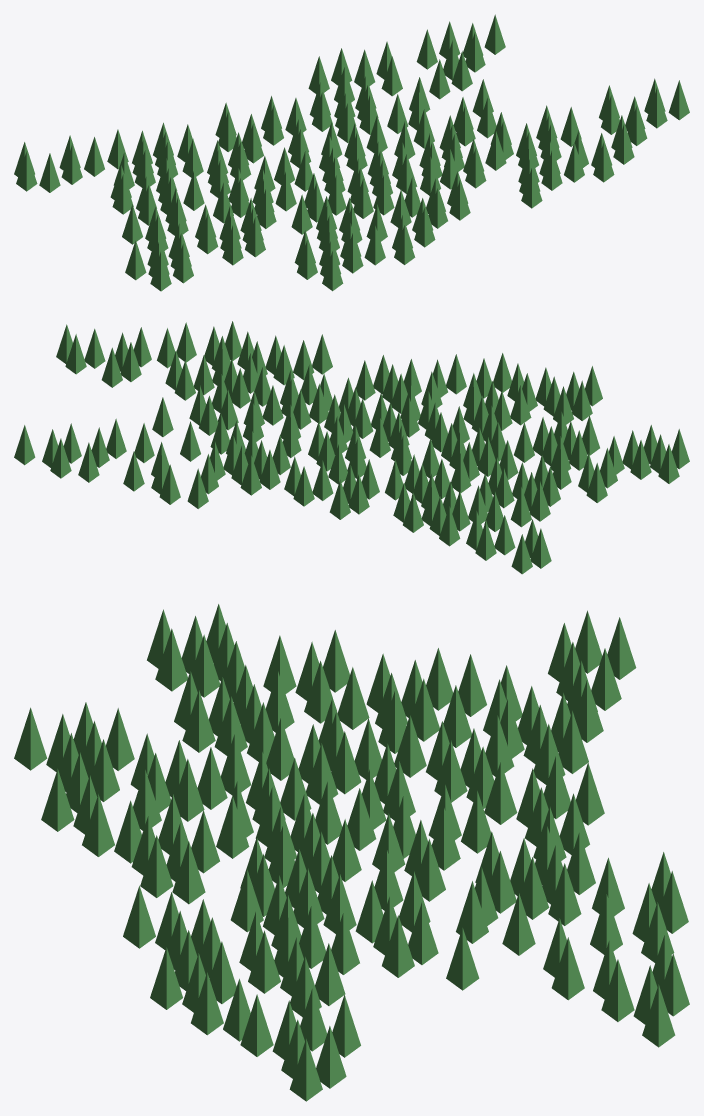
The model's file is forest2.fbx.
3 views of the same model, one above another, from view 1: azimuth 30°, elevation 25°; view 2: azimuth 150°, elevation 25°; view 3: azimuth 270°, elevation 25° (orthographic). The views are drawn at different scales.
Visible parts, largest first — view 1: pCone72, pCone180, pCone221, pCone18, pCone45, pCone150, pCone153, pCone162, pCone177, pCone187, pCone189, pCone214 (+41 smaller); view 2: pCone30, pCone83, pCone89, pCone161, pCone191, pCone197, pCone218, pCone101, pCone125, pCone137, pCone155, pCone186 (+75 smaller); view 3: pCone192, pCone4, pCone121, pCone186, pCone54, pCone150, pCone159, pCone166, pCone177, pCone187, pCone195, pCone242 (+89 smaller).
Part boxes in pixels (left/top/right/bottom): pCone72: left=342, top=233, right=363, bottom=273; pCone180: left=541, top=151, right=562, bottom=190; pCone221: left=39, top=153, right=60, bottom=192; pCone18: left=275, top=171, right=296, bottom=211; pCone45: left=414, top=207, right=435, bottom=247; pCone150: left=593, top=142, right=614, bottom=182; pCone153: left=613, top=125, right=634, bottom=164; pCone162: left=646, top=88, right=667, bottom=128; pCone177: left=521, top=168, right=542, bottom=208; pCone187: left=451, top=51, right=472, bottom=91; pCone189: left=429, top=59, right=450, bottom=99; pCone214: left=183, top=171, right=204, bottom=210; pCone30: left=658, top=444, right=679, bottom=483; pCone83: left=329, top=479, right=350, bottom=519; pCone89: left=293, top=466, right=314, bottom=506; pCone161: left=65, top=334, right=86, bottom=374; pCone191: left=78, top=442, right=99, bottom=482; pCone197: left=159, top=464, right=180, bottom=504; pCone218: left=511, top=534, right=532, bottom=574; pCone101: left=510, top=487, right=531, bottom=527; pCone125: left=152, top=397, right=173, bottom=436; pCone137: left=369, top=417, right=390, bottom=457; pCone155: left=101, top=347, right=122, bottom=387; pCone186: left=180, top=421, right=200, bottom=461; pCone192: left=601, top=959, right=634, bottom=1021; pCone4: left=182, top=690, right=215, bottom=752; pCone121: left=382, top=915, right=414, bottom=977; pCone186: left=502, top=893, right=535, bottom=955; pCone54: left=172, top=841, right=205, bottom=904; pCone150: left=150, top=947, right=182, bottom=1009; pCone159: left=240, top=994, right=273, bottom=1056; pCone166: left=248, top=930, right=280, bottom=993; pCone177: left=123, top=885, right=155, bottom=948; pCone187: left=551, top=937, right=584, bottom=1000; pCone195: left=642, top=984, right=675, bottom=1047; pCone242: left=216, top=796, right=249, bottom=858.
Bounding box in the file's own units: 135 × 7.8 × 86.26.
